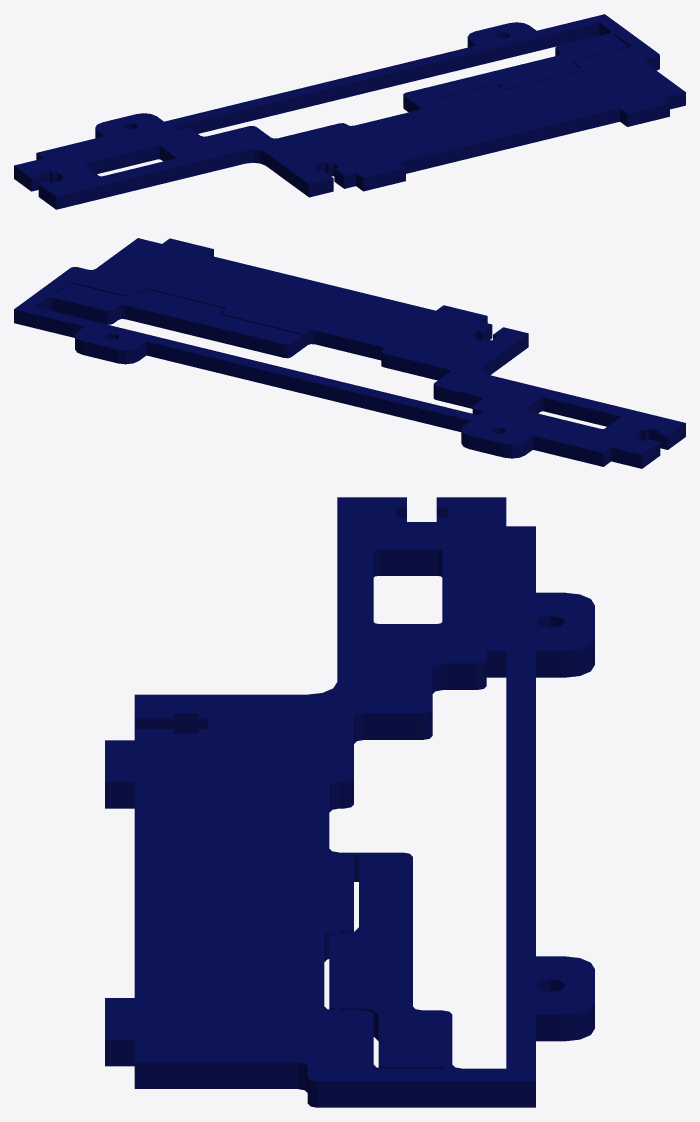
Rendered from side_cover_left.obj.
3 views of the same model, one above another, from view 1: azimuth 30°, elevation 25°; view 2: azimuth 150°, elevation 25°; view 3: azimuth 270°, elevation 25° (orthographic). The views are drawn at different scales.
Visible parts, largest first — view 1: 4005-00_Side_Cover_Left; view 2: 4005-00_Side_Cover_Left; view 3: 4005-00_Side_Cover_Left.
Boxes of the visible parts, x1,y1,x2,y2 form: 4005-00_Side_Cover_Left: (14, 14, 685, 209); 4005-00_Side_Cover_Left: (14, 238, 685, 468); 4005-00_Side_Cover_Left: (105, 497, 594, 1107).
Bounding box in the file's own units: 0.1405 × 0.003 × 0.0498.
